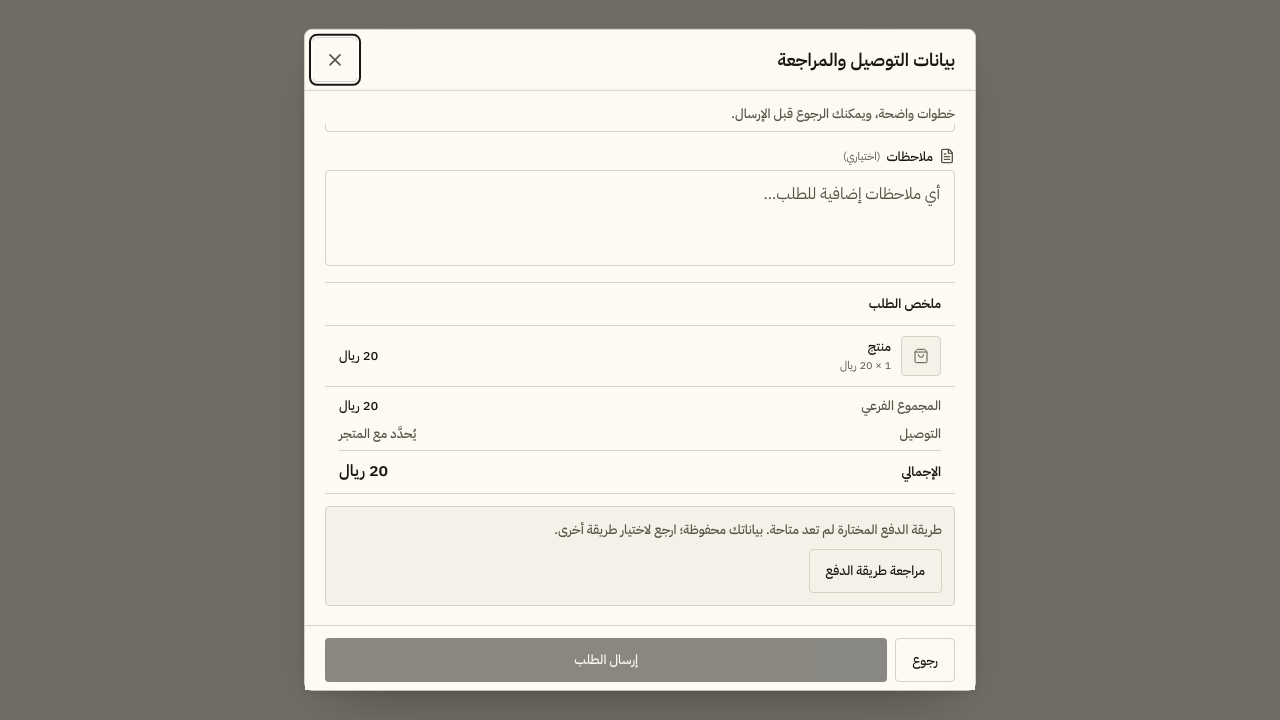
Test: CheckoutModal session and payment refresh › keeps customer and step on refresh, clears disappeared method with explicit review feedback
Earlier steps of the test are not shown.
(page scrolled)
Check: the message shows "لم تعد متاحة", box [554,520,942,539]
Check: the button "إرسال الطلب" is disabled, box [325,638,887,682]
What coordinates should you click on to do the following:
click the button "مراجعة طريقة الدفع"
I would click on:
 (875, 571)
Its box is [809,549,942,593].
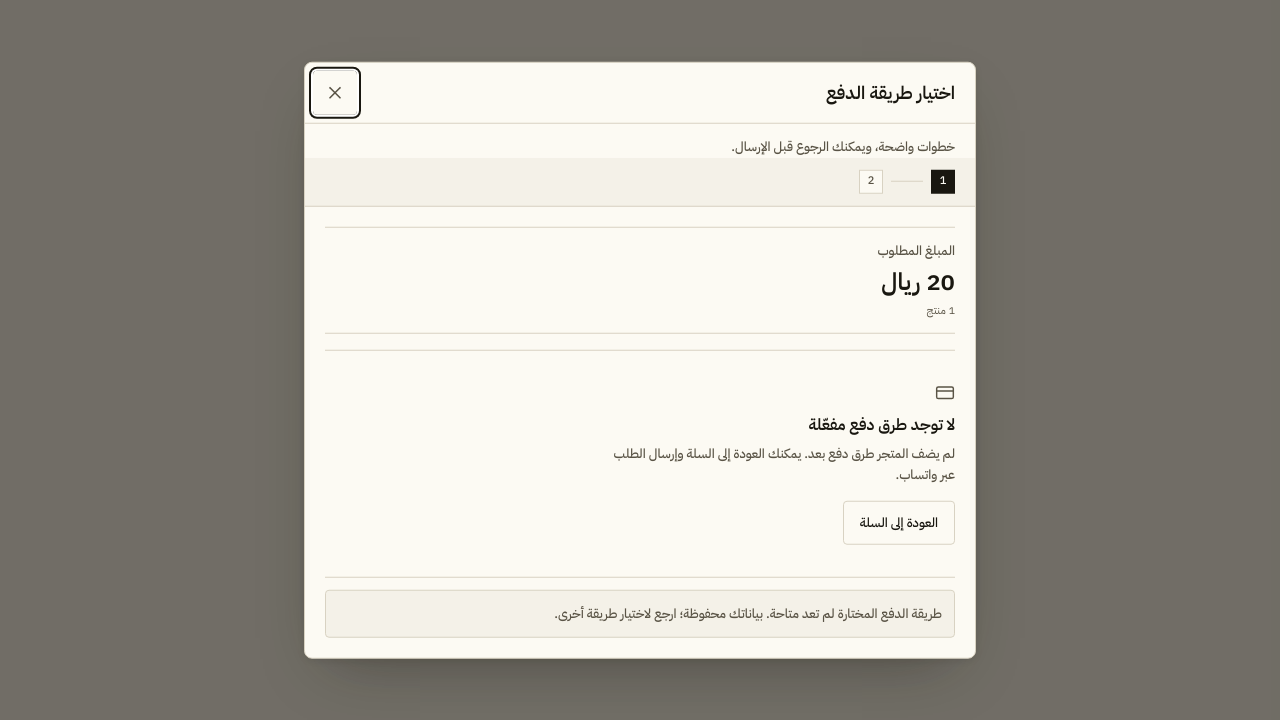
Check: the text "لا توجد طرق دفع مفعّلة" is shown, box [808,412,955,436]
